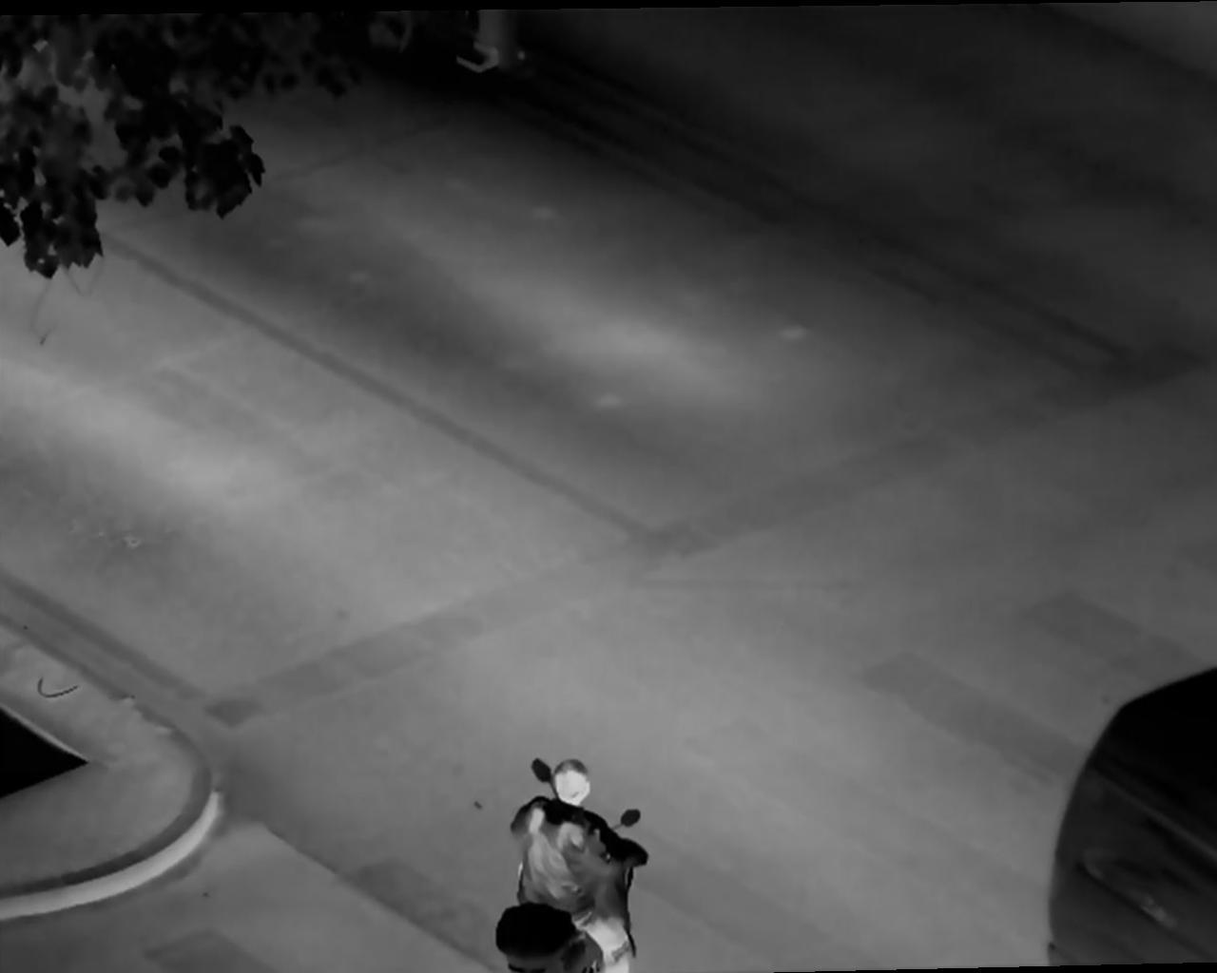person: (511, 754, 651, 973)
